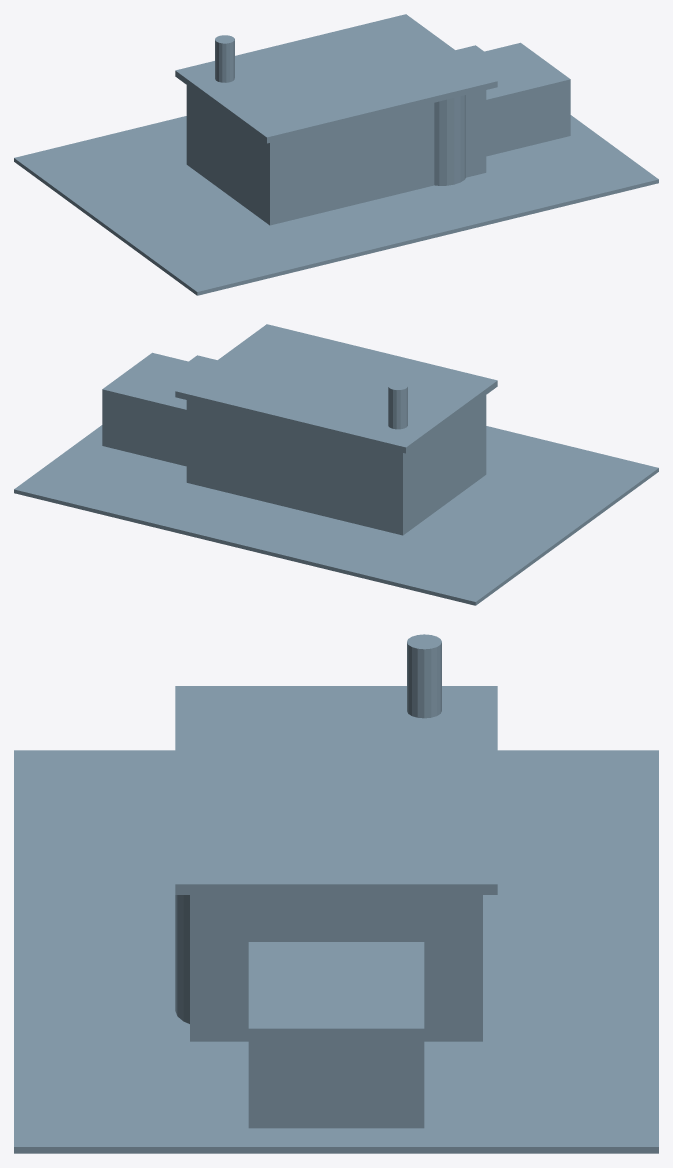
Rendered from factory.obj.
The picture shows the model from 3 angles, top to bottom: view 1: azimuth 30°, elevation 25°; view 2: azimuth 150°, elevation 25°; view 3: azimuth 270°, elevation 25°; orthographic projection. The views are drawn at different scales.
Size of the model in its own units: 64 by 18 by 44.
